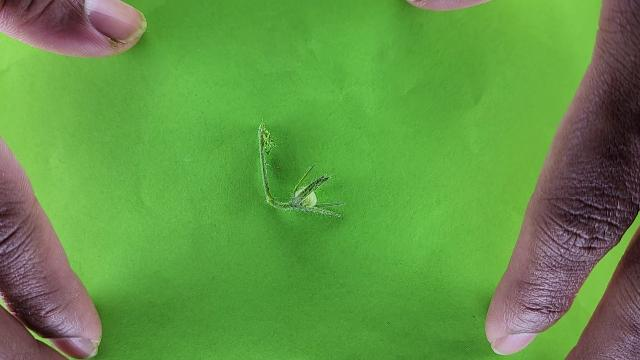Fruit Bud: (288, 173, 346, 217)
